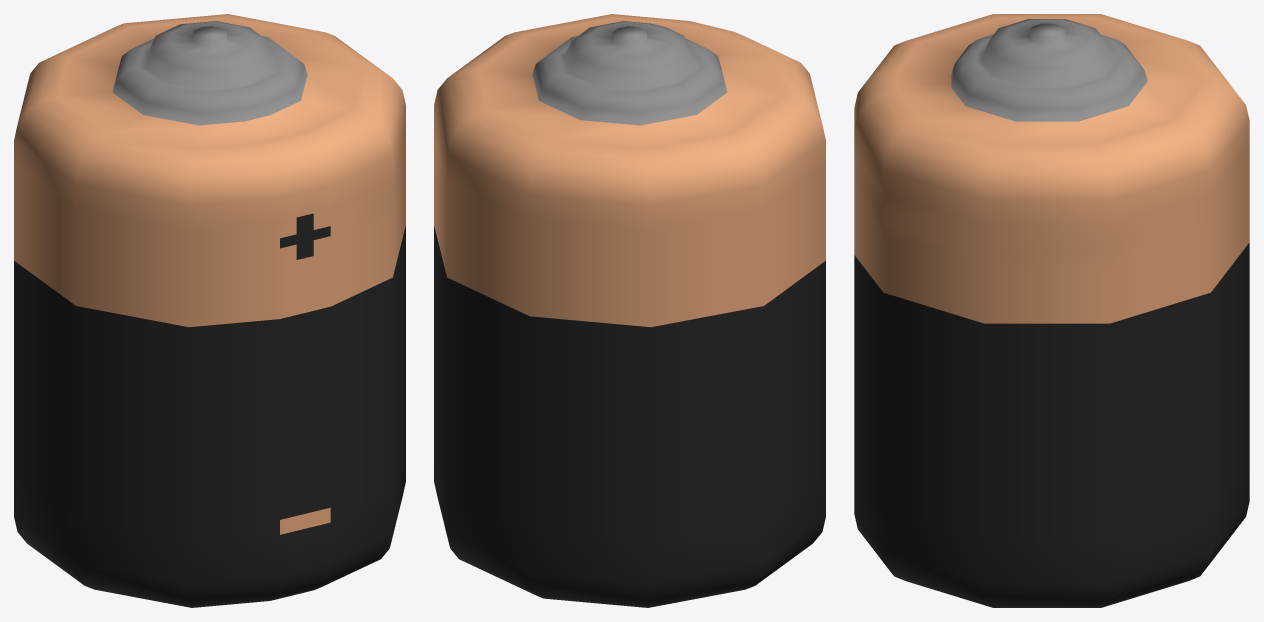
The model's file is spacebattery.fbx.
3 renders of one model, left to right at view 1: azimuth 30°, elevation 25°; view 2: azimuth 150°, elevation 25°; view 3: azimuth 270°, elevation 25°, orthographic.
Parts seen in each view (by area): view 1: Circle; view 2: Circle; view 3: Circle.
Boxes of the visible parts, x1=… form: Circle: x1=14, y1=14, x2=405, y2=607; Circle: x1=434, y1=14, x2=825, y2=607; Circle: x1=854, y1=14, x2=1249, y2=607.
Size of the model in its own units: 190 by 278 by 195.
